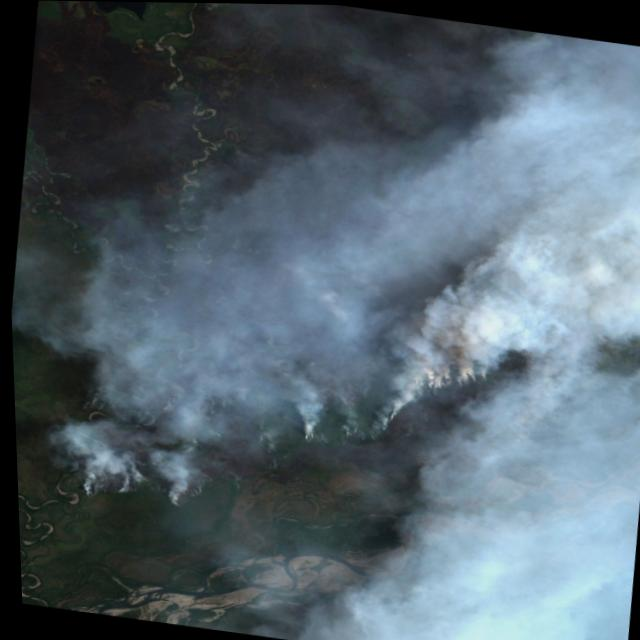fire: (63, 465, 191, 522), (403, 352, 502, 407), (350, 411, 404, 452), (286, 416, 343, 449)
